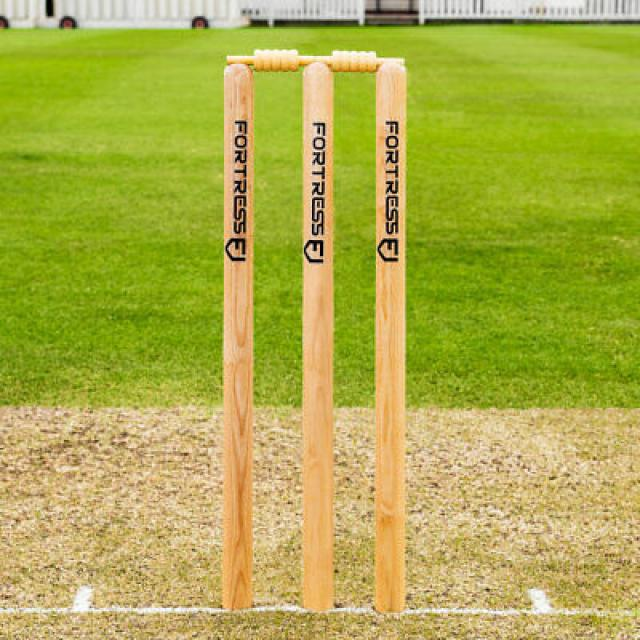stump: (227, 47, 405, 611)
